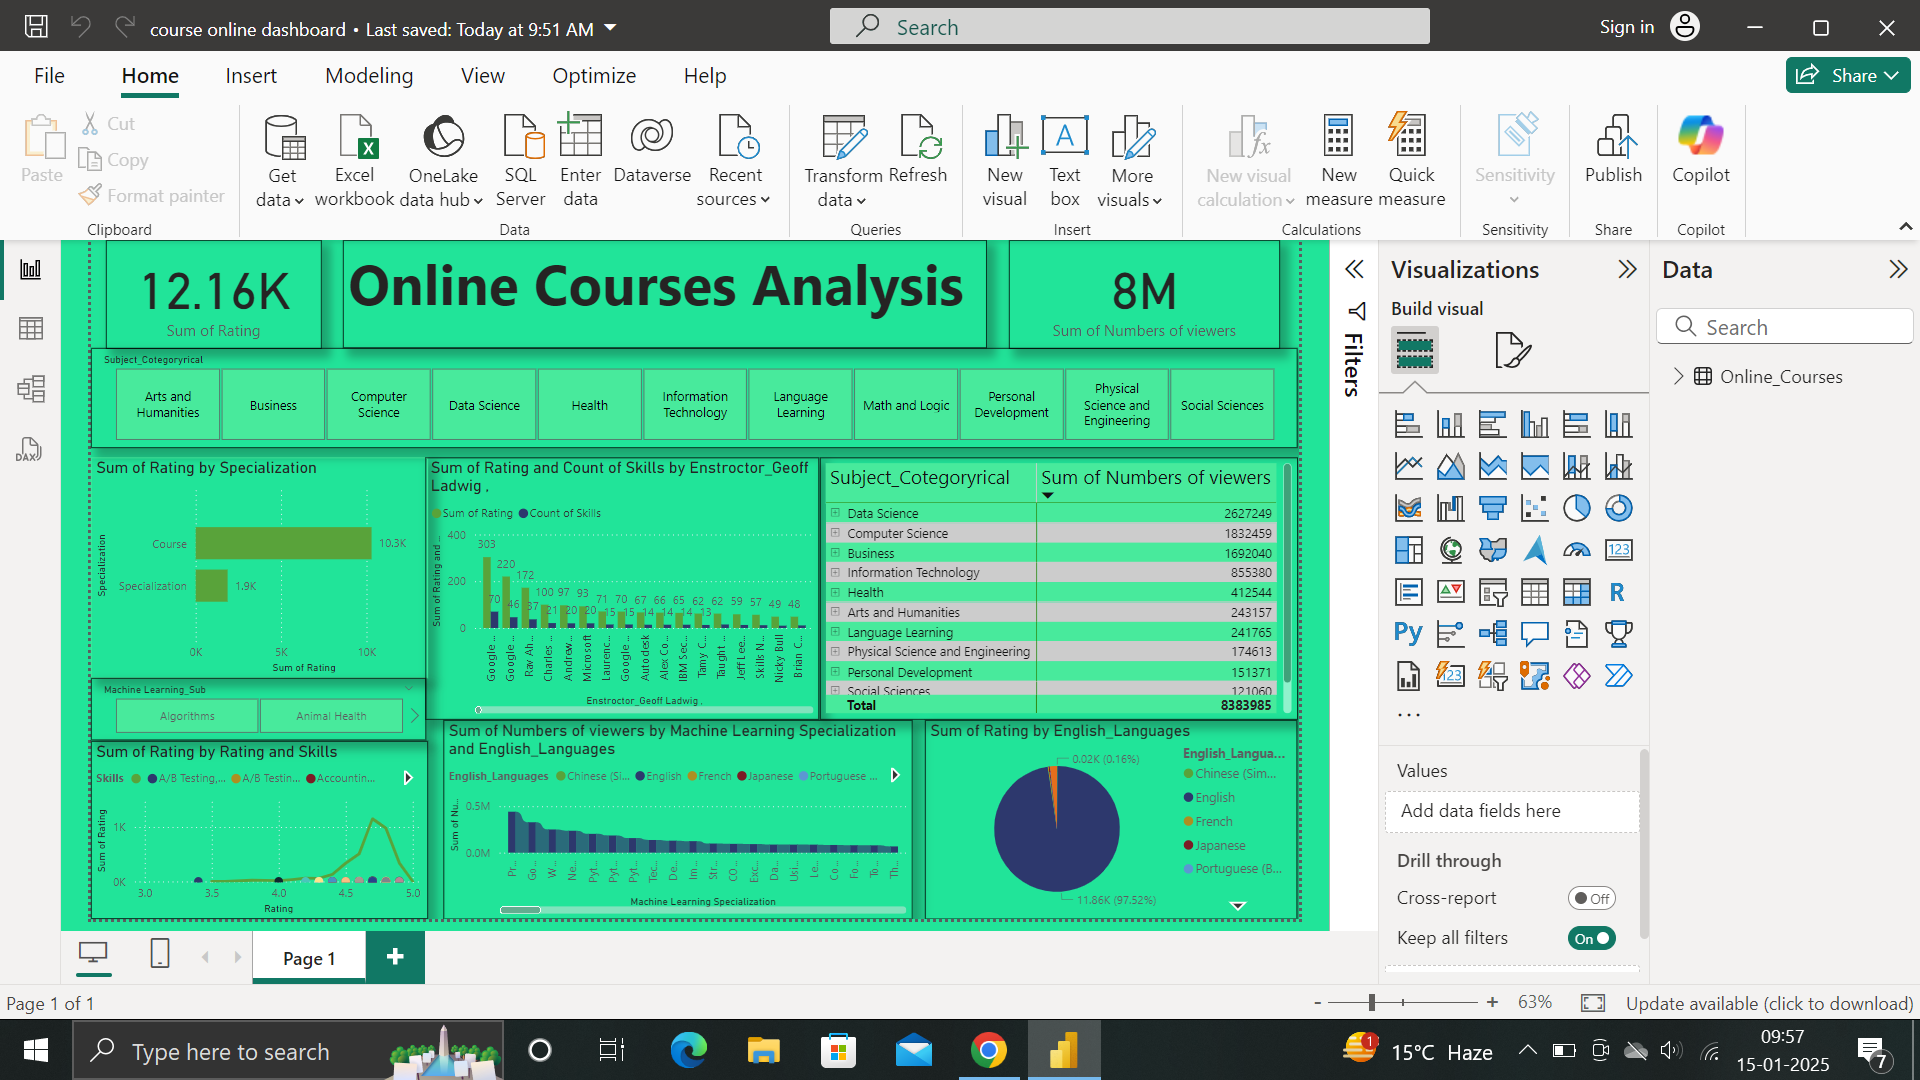

The dashboard page shown, as its layout file describes it:
{"tool":"powerbi","page":{"name":"Page 1","canvas":[1280,720],"ordinal":0},"visuals":[{"type":"textbox","box":[267.2,0,682.4,114.5],"z":0},{"type":"slicer","fields":{"Values":["Online_Courses.Subject_Cotegoryrical"]},"box":[0,115.3,1279.4,105.8],"z":1000},{"type":"barChart","fields":{"Category":["Online_Courses.Specialization"],"Y":["Online_Courses.Rating"]},"box":[0,230.6,357.2,234.3],"z":2000},{"type":"clusteredColumnChart","fields":{"Y":["Online_Courses.Rating","Online_Courses.Skills"],"Category":["Online_Courses.Enstroctor_Geoff Ladwig ,"]},"box":[355.3,230.6,417.6,277.8],"z":3000},{"type":"pivotTable","fields":{"Rows":["Online_Courses.Subject_Cotegoryrical","Online_Courses.Skills"],"Values":["Online_Courses.Numbers of viewers"]},"box":[772.9,230.6,506.5,277.8],"z":4000},{"type":"lineChart","fields":{"Category":["Online_Courses.Rating"],"Series":["Online_Courses.Skills"],"Y":["Online_Courses.Rating"]},"box":[0,531,357.2,189],"z":4001},{"type":"ribbonChart","fields":{"Y":["Online_Courses.Numbers of viewers"],"Category":["Online_Courses.Machine Learning Specialization"],"Series":["Online_Courses.English_Languages"]},"box":[374.2,508.4,497,211.7],"z":4002},{"type":"slicer","fields":{"Values":["Online_Courses.Machine Learning_Sub"]},"box":[0,464.9,355.3,66.1],"z":4003},{"type":"card","fields":{"Values":["Online_Courses.Rating"]},"box":[15.1,0,228.7,115.3],"z":4005},{"type":"card","fields":{"Values":["Online_Courses.Numbers of viewers"]},"box":[973.2,0,287.2,115.3],"z":4006},{"type":"pieChart","fields":{"Y":["Online_Courses.Rating"],"Series":["Online_Courses.English_Languages"]},"box":[884.4,508.4,395,211.7],"z":4007}]}

Visuals, with their boxes on the page's 1280x720 design canvas (x1, y1, x2, y2). These are canvas units, not pixel positions in the 1920x1080 screenshot, which may show the page scaled, cropped or inside an application window:
textbox: BBox(267, 0, 950, 114)
slicer - Online_Courses.Subject_Cotegoryrical: BBox(0, 115, 1279, 221)
barChart - Online_Courses.Specialization x Online_Courses.Rating: BBox(0, 231, 357, 465)
clusteredColumnChart - Online_Courses.Rating x Online_Courses.Skills: BBox(355, 231, 773, 508)
pivotTable - Online_Courses.Subject_Cotegoryrical x Online_Courses.Skills: BBox(773, 231, 1279, 508)
lineChart - Online_Courses.Rating x Online_Courses.Skills: BBox(0, 531, 357, 720)
ribbonChart - Online_Courses.Numbers of viewers x Online_Courses.Machine Learning Specialization: BBox(374, 508, 871, 720)
slicer - Online_Courses.Machine Learning_Sub: BBox(0, 465, 355, 531)
card - Online_Courses.Rating: BBox(15, 0, 244, 115)
card - Online_Courses.Numbers of viewers: BBox(973, 0, 1260, 115)
pieChart - Online_Courses.Rating x Online_Courses.English_Languages: BBox(884, 508, 1279, 720)
